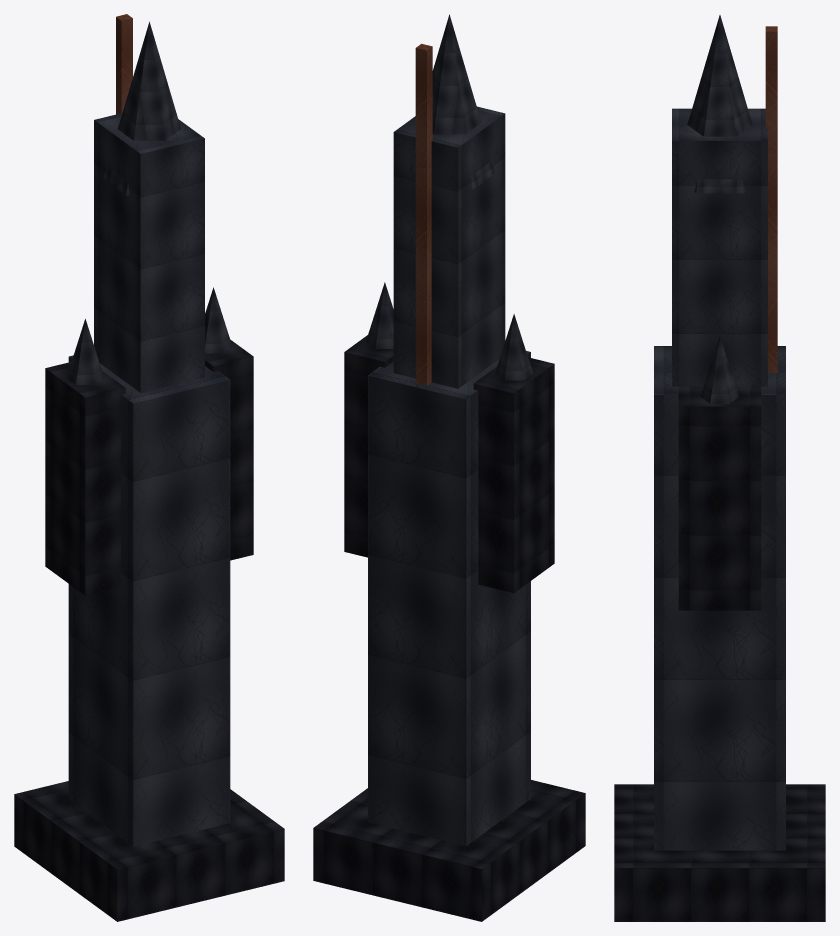
File: blackstone-wall-buttress.glb
The picture shows the model from 3 angles, left to right: view 1: azimuth 30°, elevation 25°; view 2: azimuth 150°, elevation 25°; view 3: azimuth 270°, elevation 25°; orthographic projection. The views are drawn at different scales.
Parts seen in each view (by area): view 1: Buttress_Lower, Buttress_Upper, Buttress_Foot, Buttress_Shoulder_-1, Buttress_Shoulder_1, Buttress_Crown, Buttress_BronzeSpine, Buttress_ShoulderCrown_-1, Buttress_ShoulderCrown_1; view 2: Buttress_Lower, Buttress_Upper, Buttress_Foot, Buttress_Shoulder_-1, Buttress_BronzeSpine, Buttress_Shoulder_1, Buttress_Crown, Buttress_ShoulderCrown_-1, Buttress_ShoulderCrown_1; view 3: Buttress_Lower, Buttress_Upper, Buttress_Foot, Buttress_Shoulder_1, Buttress_Crown, Buttress_BronzeSpine, Buttress_ShoulderCrown_1.
Boxes of the visible parts, left/top/right/bottom form: Buttress_Lower: left=68, top=355, right=230, bottom=846; Buttress_Upper: left=94, top=113, right=204, bottom=392; Buttress_Foot: left=14, top=781, right=284, bottom=921; Buttress_Shoulder_-1: left=45, top=362, right=125, bottom=595; Buttress_Shoulder_1: left=205, top=339, right=253, bottom=560; Buttress_Crown: left=103, top=21, right=180, bottom=195; Buttress_BronzeSpine: left=116, top=14, right=132, bottom=114; Buttress_ShoulderCrown_-1: left=66, top=319, right=104, bottom=384; Buttress_ShoulderCrown_1: left=205, top=287, right=232, bottom=353; Buttress_Lower: left=368, top=351, right=530, bottom=845; Buttress_Upper: left=393, top=106, right=505, bottom=388; Buttress_Foot: left=313, top=780, right=585, bottom=921; Buttress_Shoulder_-1: left=473, top=357, right=554, bottom=593; Buttress_BronzeSpine: left=415, top=43, right=432, bottom=385; Buttress_Shoulder_1: left=344, top=335, right=393, bottom=557; Buttress_Crown: left=432, top=14, right=495, bottom=189; Buttress_ShoulderCrown_-1: left=495, top=314, right=532, bottom=380; Buttress_ShoulderCrown_1: left=366, top=282, right=393, bottom=348; Buttress_Lower: left=654, top=346, right=785, bottom=850; Buttress_Upper: left=672, top=108, right=767, bottom=386; Buttress_Foot: left=614, top=784, right=825, bottom=921; Buttress_Shoulder_1: left=678, top=386, right=761, bottom=610; Buttress_Crown: left=687, top=15, right=752, bottom=193; Buttress_BronzeSpine: left=765, top=26, right=777, bottom=373; Buttress_ShoulderCrown_1: left=700, top=336, right=739, bottom=403.
Size of the model in its own units: 3.02 by 14.45 by 3.2.
3 materials, 3 textured.
